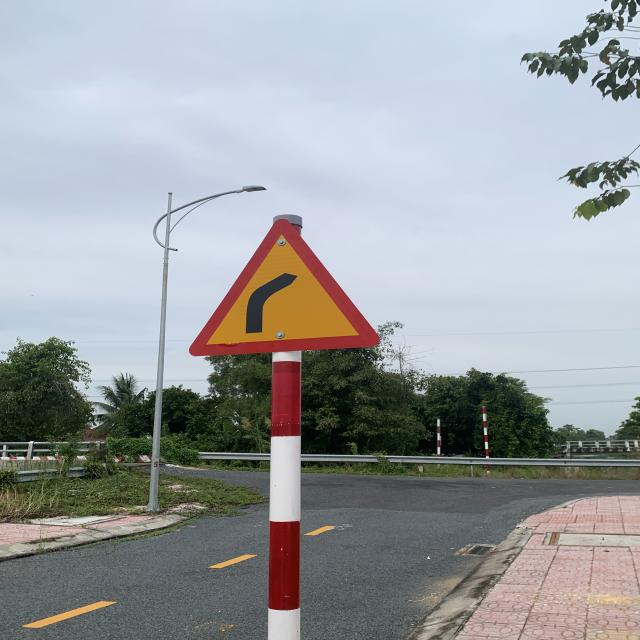Duong_Nguoi_Di_Bo_Cat_Ngang: (188, 216, 382, 356)
